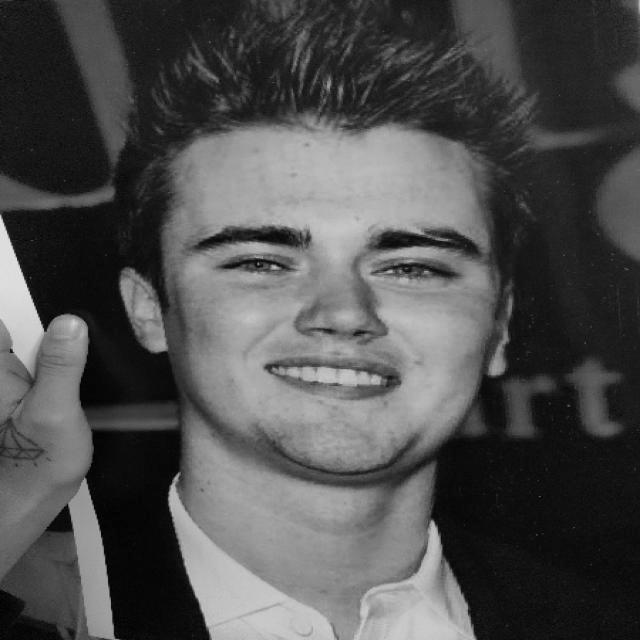fake: (7, 0, 640, 640)
